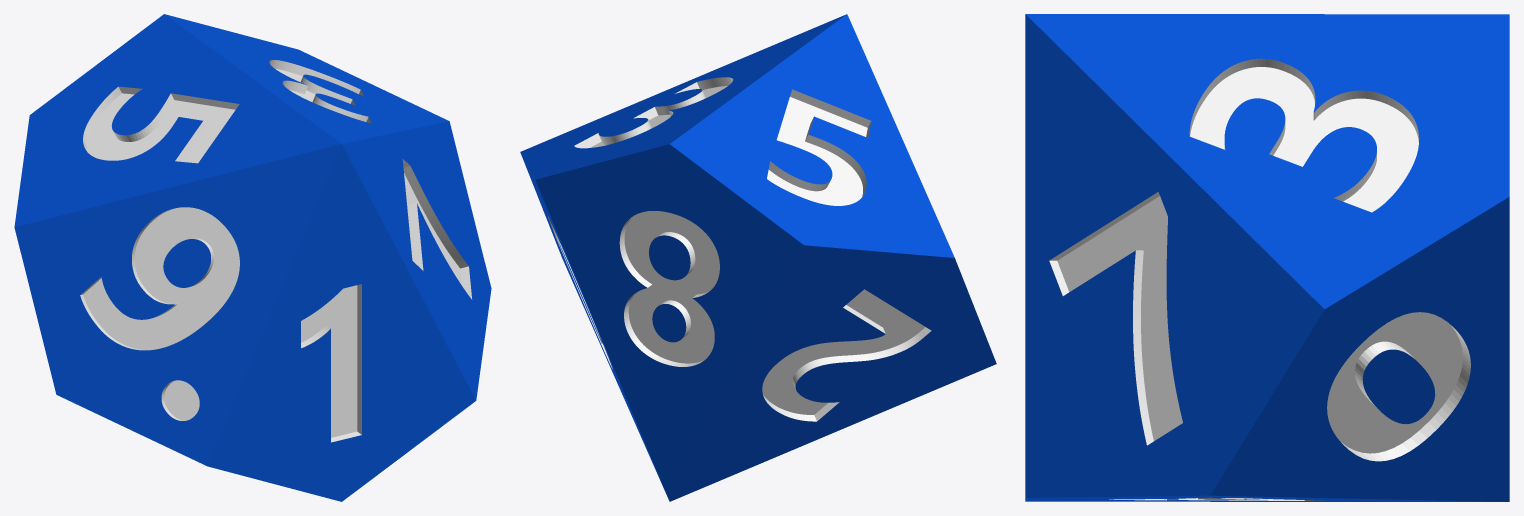
The picture shows the model from 3 angles, left to right: view 1: azimuth 30°, elevation 25°; view 2: azimuth 150°, elevation 25°; view 3: azimuth 270°, elevation 25°; orthographic projection. The views are drawn at different scales.
Parts seen in each view (by area): view 1: d10; view 2: d10; view 3: d10.
Boxes of the visible parts, <box> form: d10: <box>14,14,491,501</box>; d10: <box>520,14,996,501</box>; d10: <box>1025,14,1509,501</box>.
Size of the model in its own units: 2.6 by 2.05 by 1.84.
Materials: 1 (1 with a texture image).
